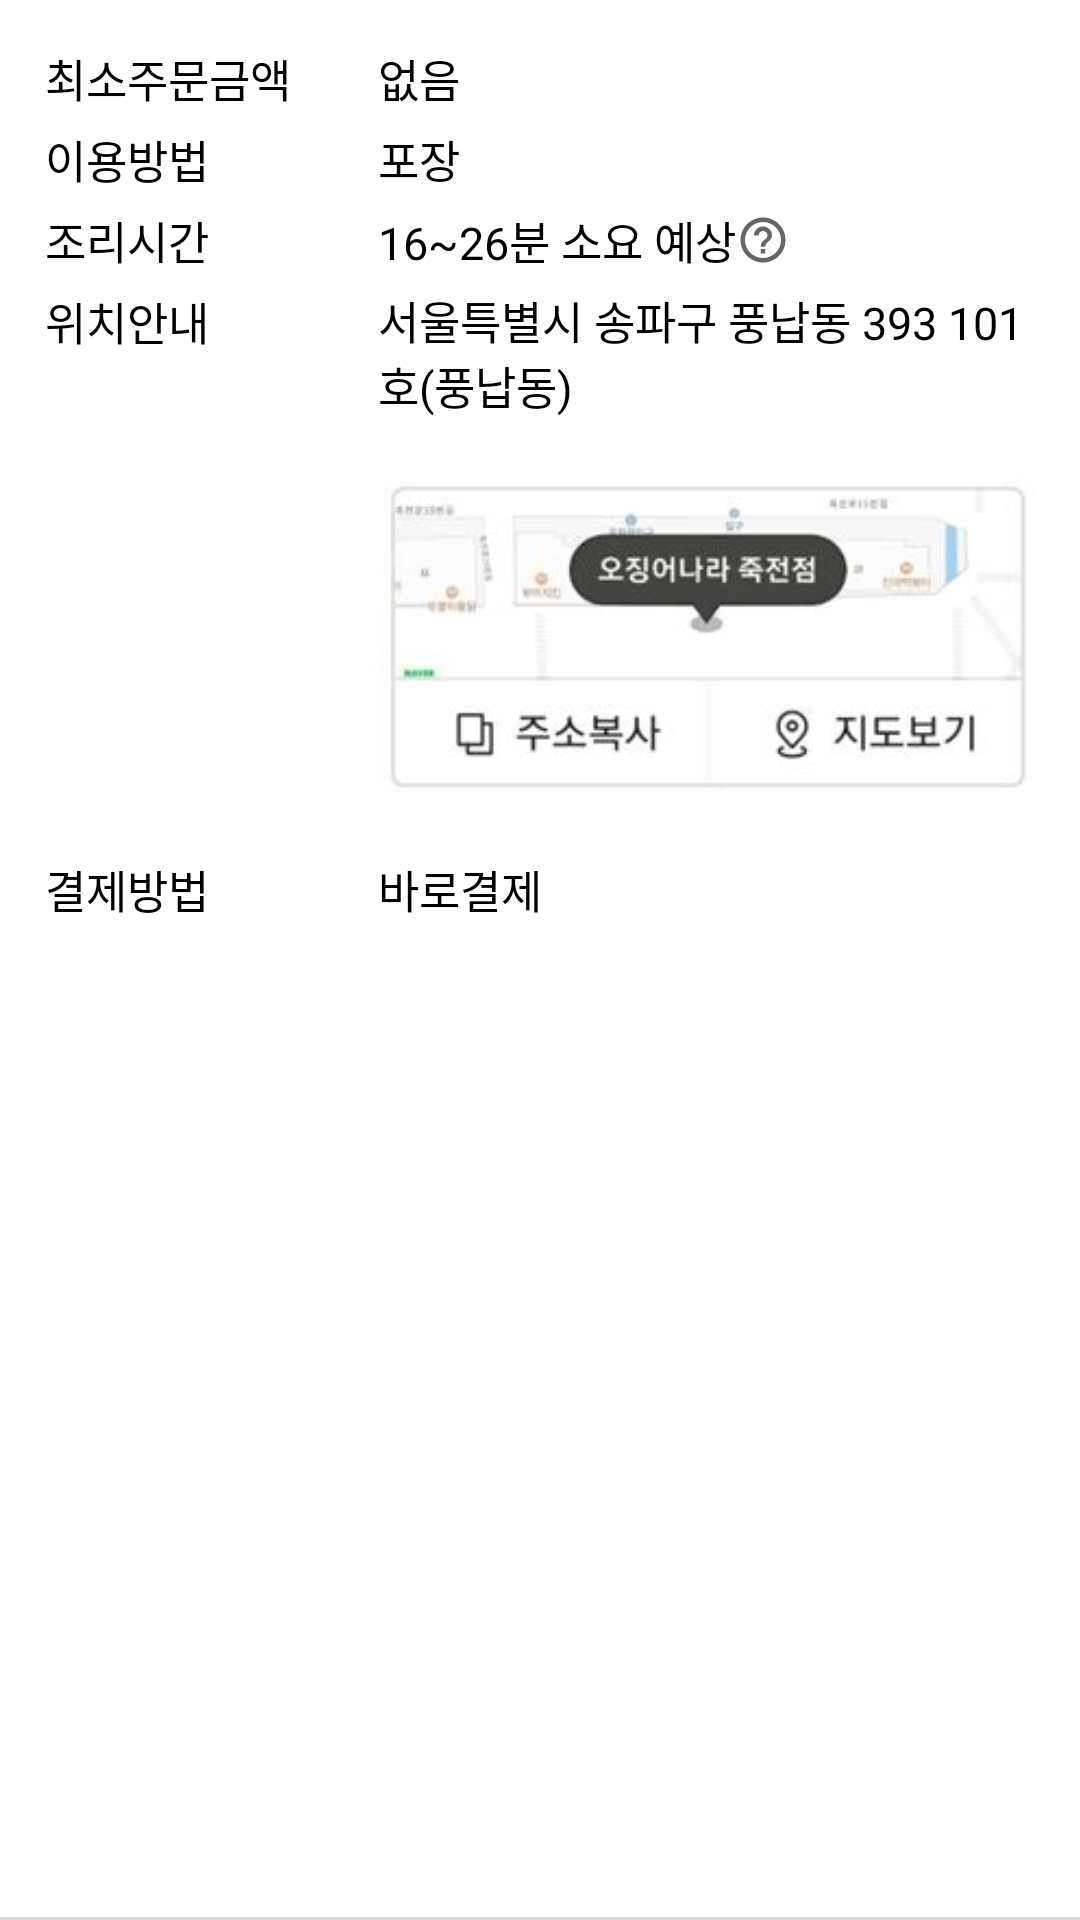

Point at icon controls on the screen. Image size 1080 x 1920, points as (x,y).
help: (763,240)
